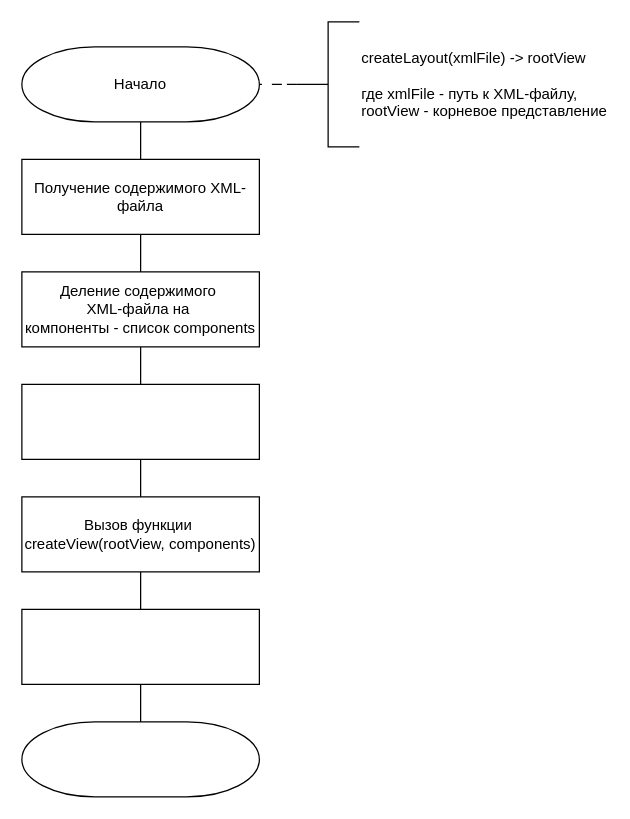
Some shapes in this 630 by 819 pixel diagram are drawn without their labels. Each missing label, with the centre of its shape:
"Возврат rootView" belongs at (140,646).
"Конец" belongs at (140,759).
"Создание корневого представления rootView" belongs at (140,421).
